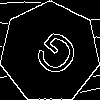G: (25, 27, 83, 88)
